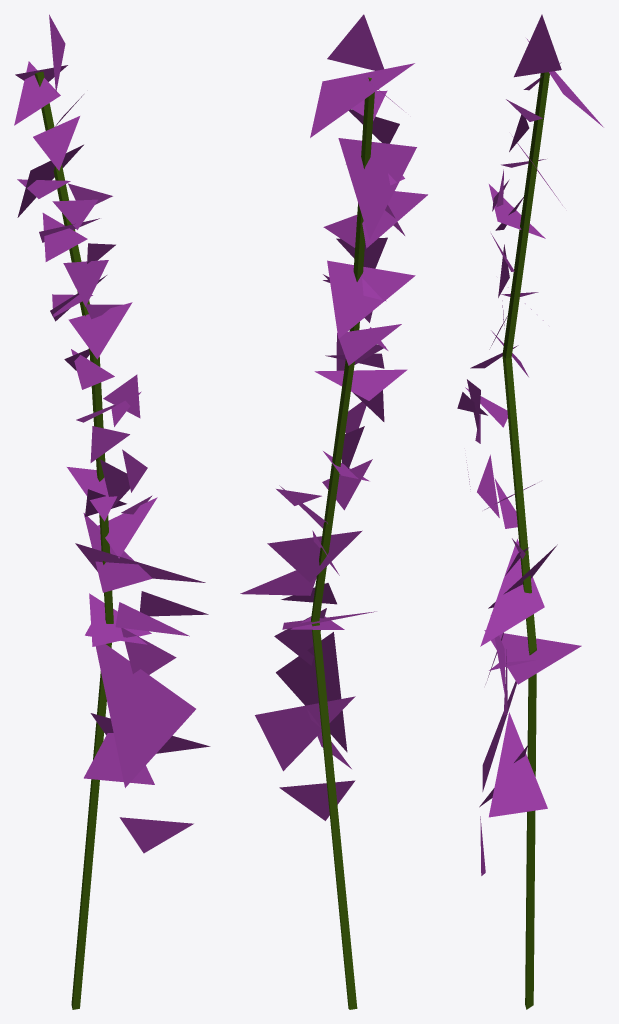
The model's file is Violet lavender.fbx.
The picture shows the model from 3 angles, left to right: view 1: azimuth 30°, elevation 25°; view 2: azimuth 150°, elevation 25°; view 3: azimuth 270°, elevation 25°; orthographic projection. The views are drawn at different scales.
Visible parts, largest first — view 1: Cylinder.001, Cylinder.014; view 2: Cylinder.001, Cylinder.014; view 3: Cylinder.001, Cylinder.014.
Boxes of the visible parts, x1,y1,x2,y2 form: Cylinder.001: [14, 14, 210, 853]; Cylinder.014: [34, 71, 113, 1009]; Cylinder.001: [240, 14, 427, 820]; Cylinder.014: [311, 77, 374, 1009]; Cylinder.001: [457, 14, 603, 875]; Cylinder.014: [502, 72, 549, 1009].
Bounding box in the file's own units: 18.56 × 95.63 × 12.97.
